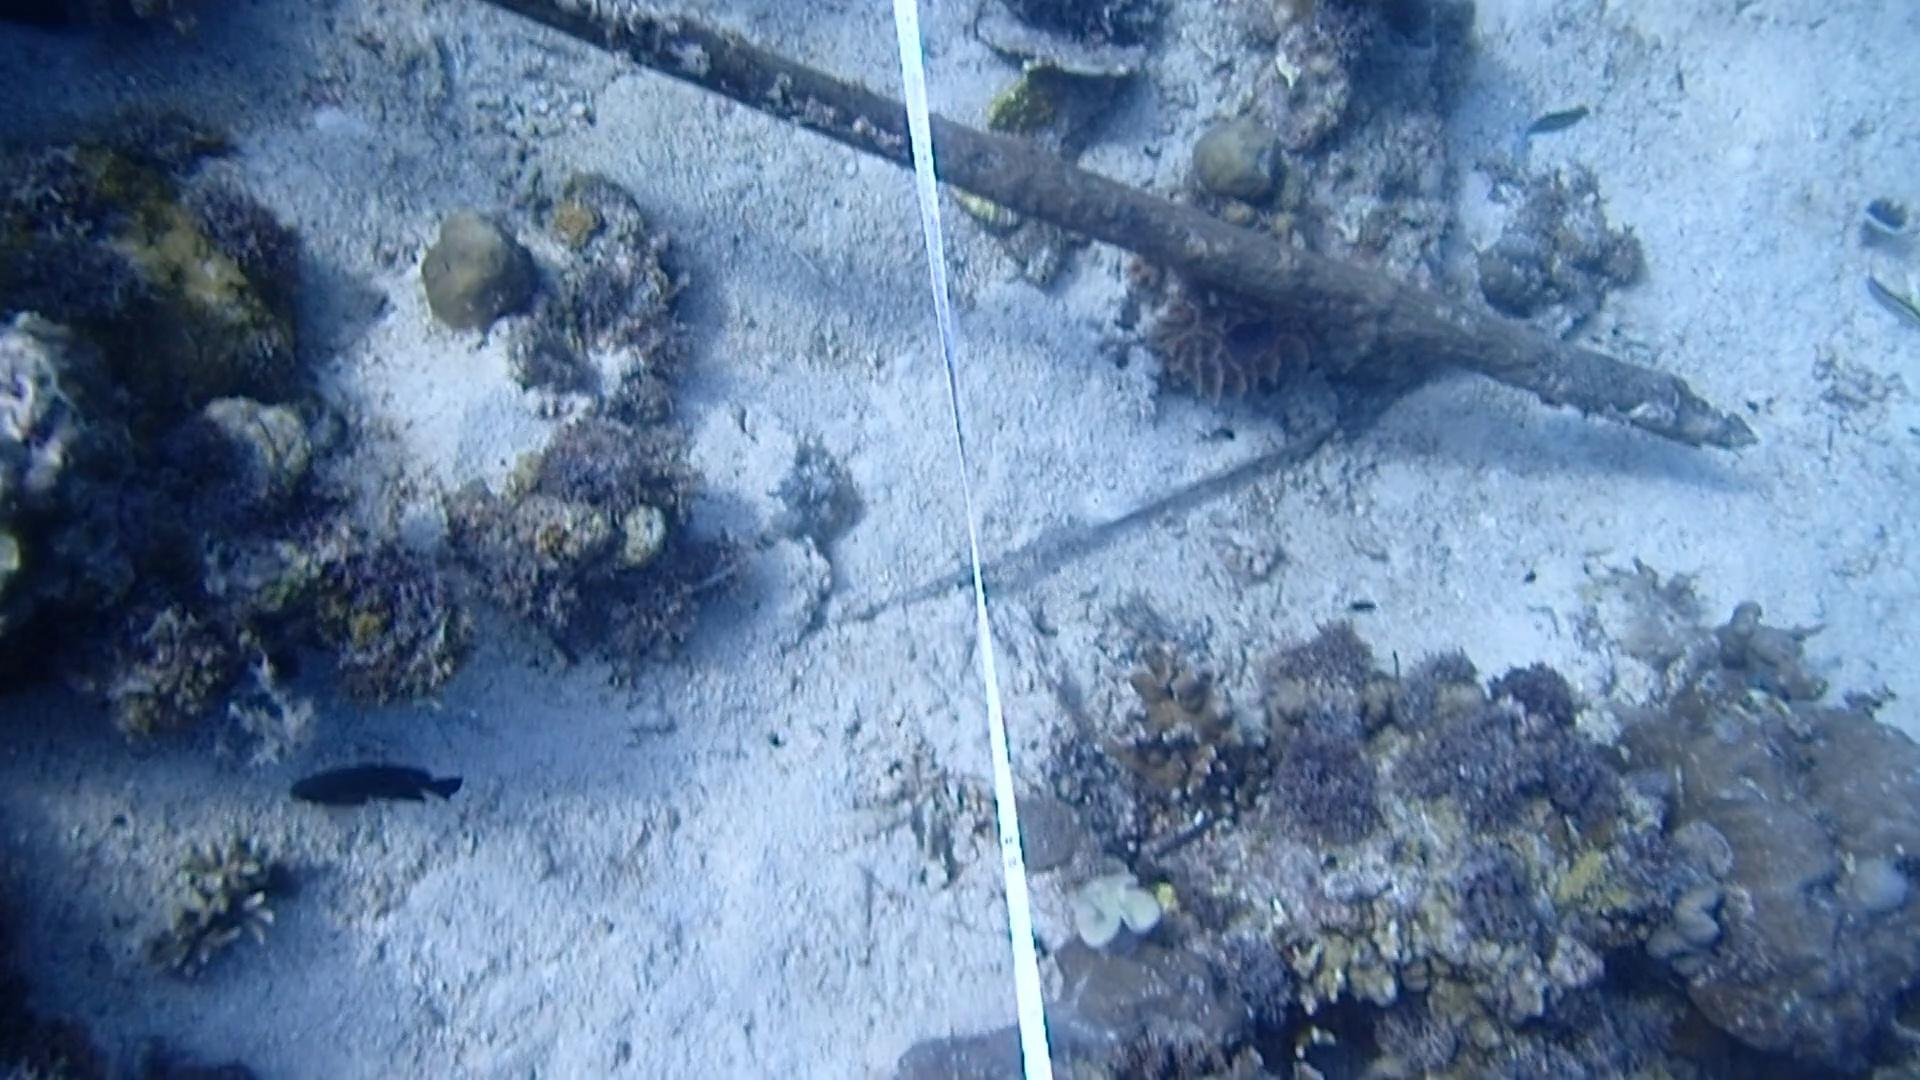Dark Fish: (278, 760, 465, 812)
Striped Fish: (1507, 90, 1589, 169), (1857, 264, 1920, 345)
